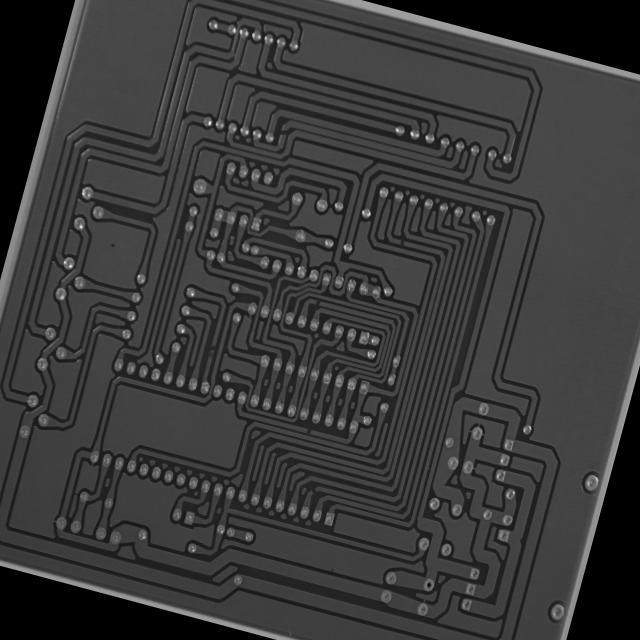open_circuit: (276, 125, 290, 138), (206, 340, 218, 354), (302, 424, 314, 437), (311, 296, 323, 308), (396, 235, 407, 248)
